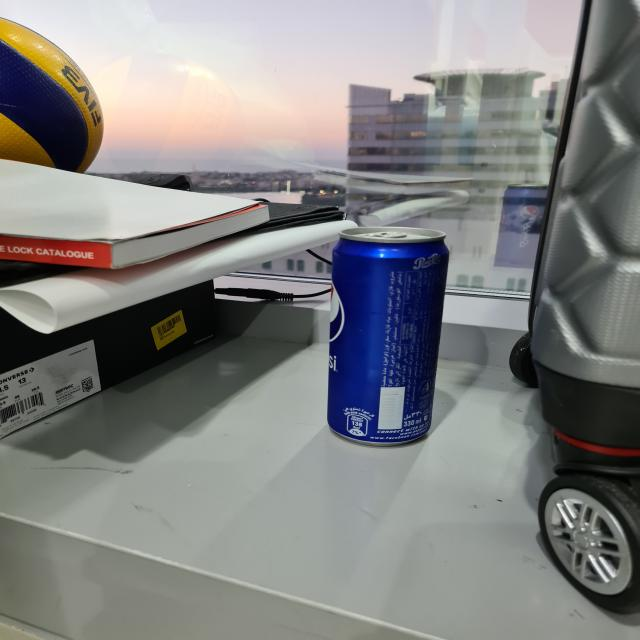non-organic waste: (320, 223, 464, 456)
